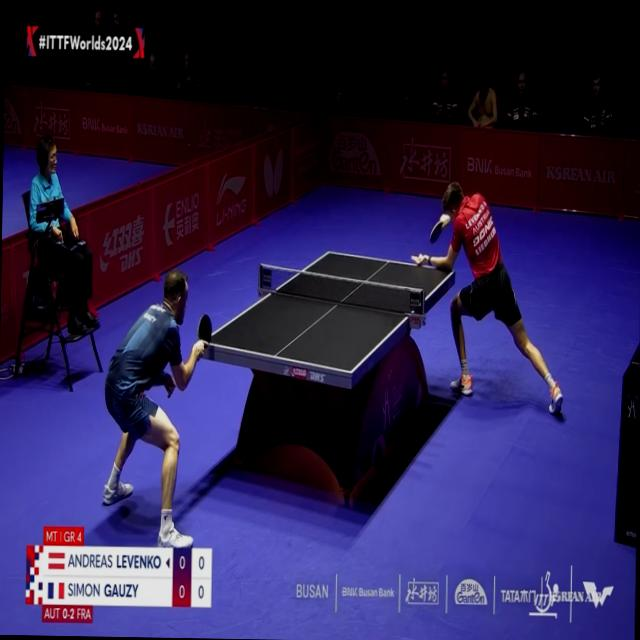TT Net: (255, 264, 429, 318)
TT Racket: (192, 303, 219, 354), (423, 215, 450, 246)
TT Table: (197, 198, 468, 435)
